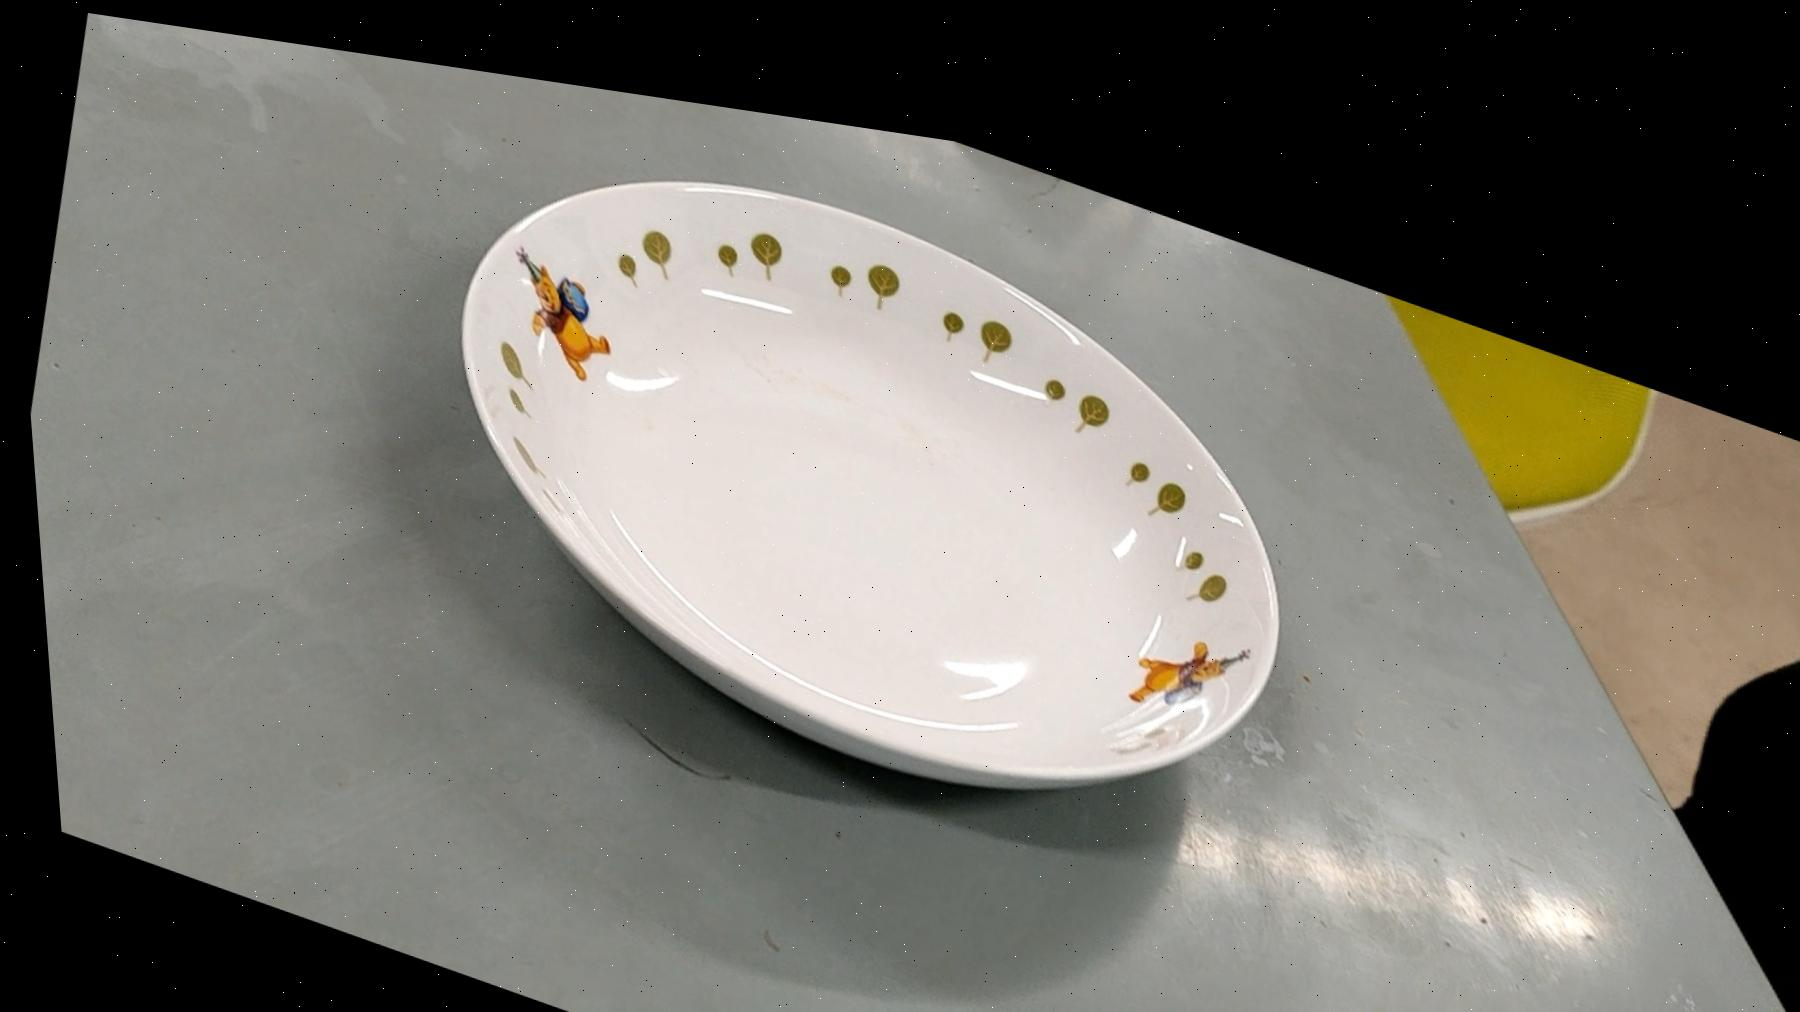plate: (377, 58, 1348, 876)
